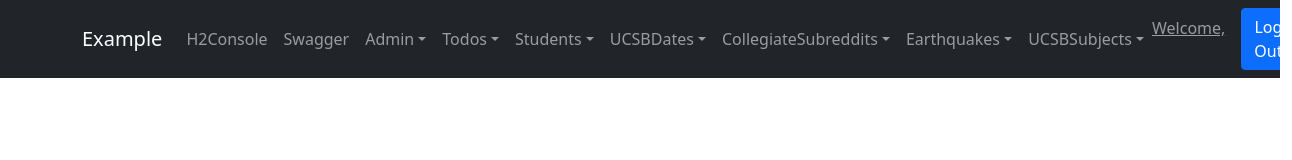
Test: AppNavbar tests › renders the ucsbsubjects menu correctly for a user
The image size is (1292, 160).
Step 1. Click the button "UCSBSubjects" → point(1080, 39), box x1=1028 y1=28 x2=1132 y2=50
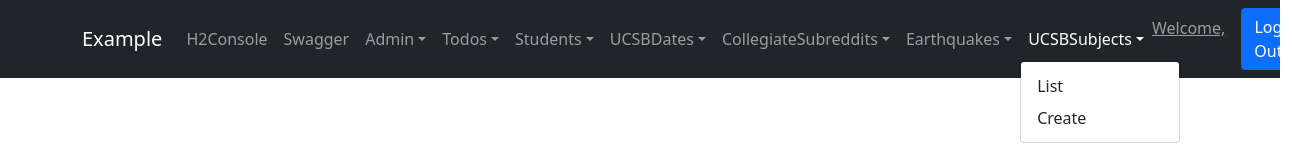
Now the link with test id "appnavbar-ucsbsubjects-list" is shown, box x1=1037 y1=75 x2=1063 y2=97
